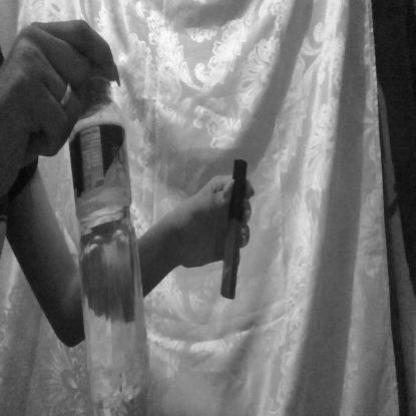Plastic Bottle: (60, 17, 158, 416)
